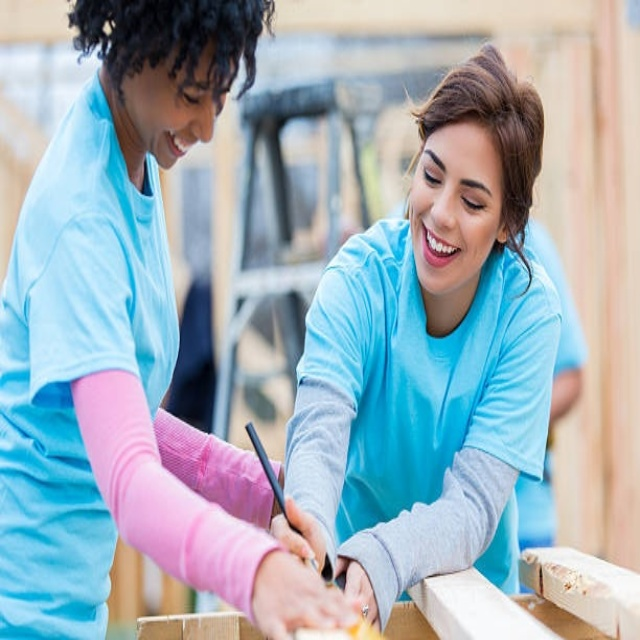Sin_gafas: (413, 140, 498, 218), (169, 67, 236, 119)
Sin_guantes: (252, 544, 362, 640), (271, 486, 334, 577), (337, 543, 388, 640)
Sin_mascara: (415, 221, 464, 295), (155, 121, 192, 176)
